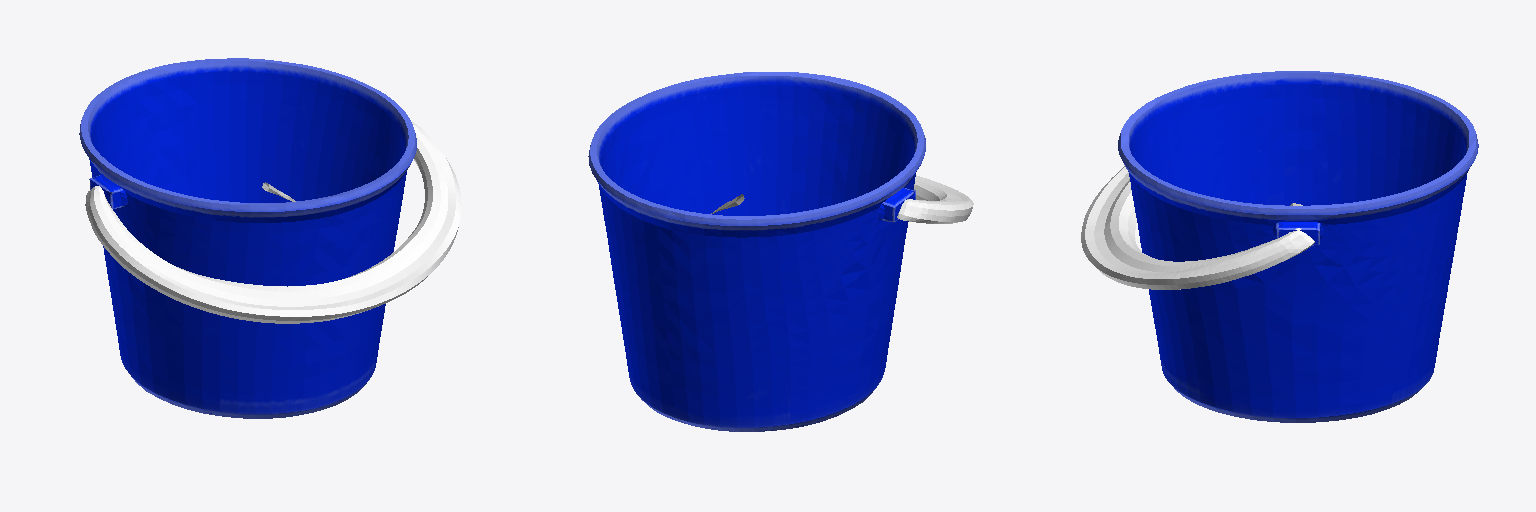
3 views of the same model, side by side, from view 1: azimuth 30°, elevation 25°; view 2: azimuth 150°, elevation 25°; view 3: azimuth 270°, elevation 25° (orthographic).
Visible parts, largest first — view 1: Bucket.objC4C4C76D-790A-49A2-920F-0ABB92569F5E; view 2: Bucket.objC4C4C76D-790A-49A2-920F-0ABB92569F5E; view 3: Bucket.objC4C4C76D-790A-49A2-920F-0ABB92569F5E.
Part boxes in pixels (x1,y1,x2,y2): Bucket.objC4C4C76D-790A-49A2-920F-0ABB92569F5E: (79, 58, 461, 418); Bucket.objC4C4C76D-790A-49A2-920F-0ABB92569F5E: (588, 72, 973, 431); Bucket.objC4C4C76D-790A-49A2-920F-0ABB92569F5E: (1081, 71, 1478, 422).
Size of the model in its own units: 8.65 by 5.72 by 8.76.
2 materials, 1 textured.